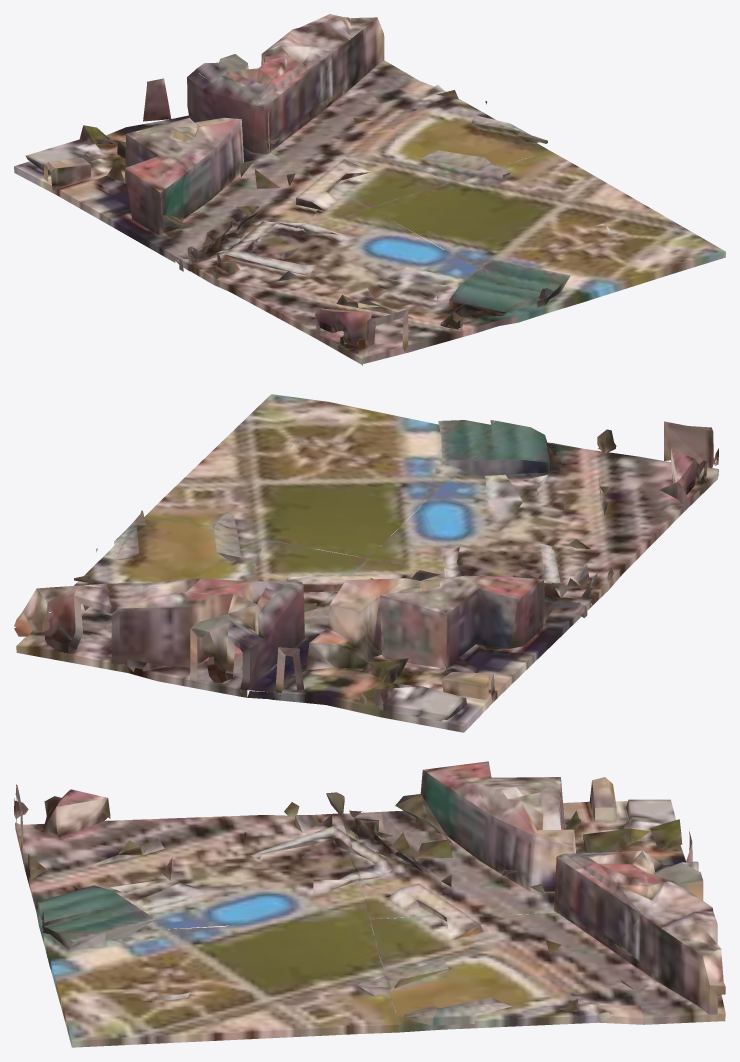
3 views of the same model, one above another, from view 1: azimuth 30°, elevation 25°; view 2: azimuth 150°, elevation 25°; view 3: azimuth 270°, elevation 25° (orthographic). The views are drawn at different scales.
Visible parts, largest first — view 1: Mesh_0; view 2: Mesh_0; view 3: Mesh_0.
Part boxes in pixels (x1,y1,x2,y2): Mesh_0: (14,14,725,365); Mesh_0: (14,394,718,732); Mesh_0: (14,761,725,1047).
Bounding box in the file's own units: 266 × 39.86 × 330.
Materials: 1 (1 with a texture image).
